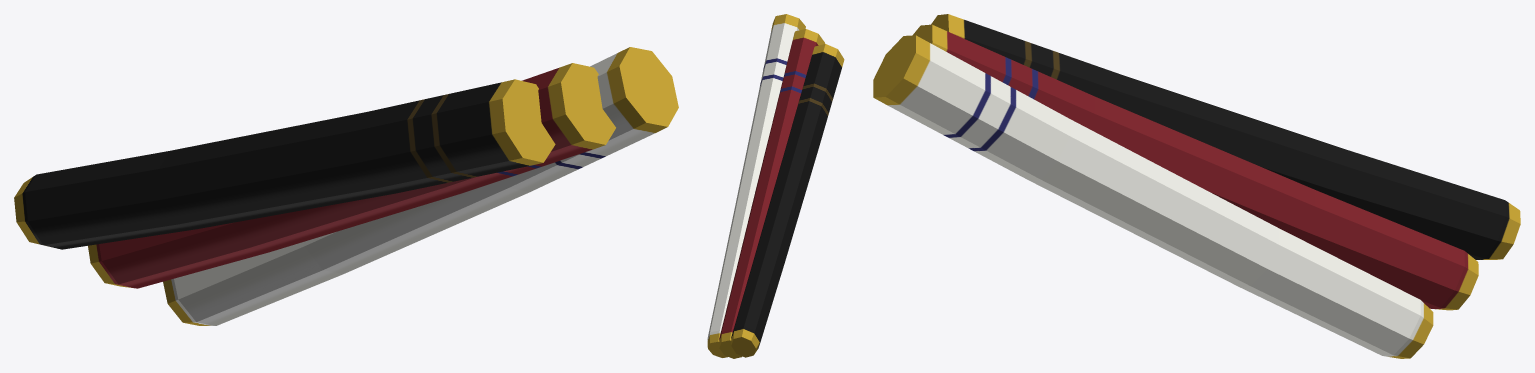
The model's file is acc_Fourreaux.fbx.
3 renders of one model, left to right at view 1: azimuth 30°, elevation 25°; view 2: azimuth 150°, elevation 25°; view 3: azimuth 270°, elevation 25°, orthographic. The views are drawn at different scales.
Parts seen in each view (by area): view 1: Fourreaux; view 2: Fourreaux; view 3: Fourreaux.
Part boxes in pixels (x1,y1,x2,y2): Fourreaux: [14, 47, 678, 325]; Fourreaux: [707, 14, 844, 358]; Fourreaux: [873, 14, 1520, 358].
Bounding box in the file's own units: 101 × 139 × 210.
Materials: 1 (1 with a texture image).
